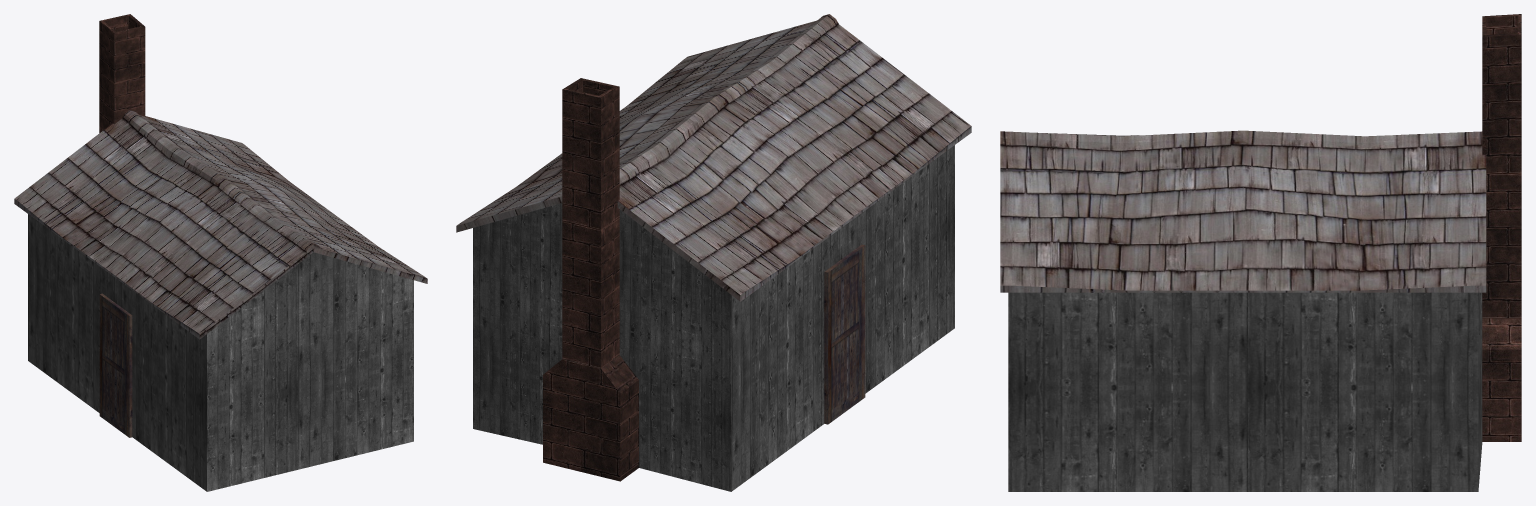
The model's file is cabin.gltf.
3 views of the same model, side by side, from view 1: azimuth 30°, elevation 25°; view 2: azimuth 150°, elevation 25°; view 3: azimuth 270°, elevation 25° (orthographic). The views are drawn at different scales.
Visible parts, largest first — view 1: Cube; view 2: Cube; view 3: Cube.
Part boxes in pixels (x1,y1,x2,y2): Cube: (14, 14, 427, 491); Cube: (456, 14, 971, 491); Cube: (1000, 14, 1521, 491).
Bounding box in the file's own units: 4.4 × 5.66 × 6.65.
1 material, 1 textured.
